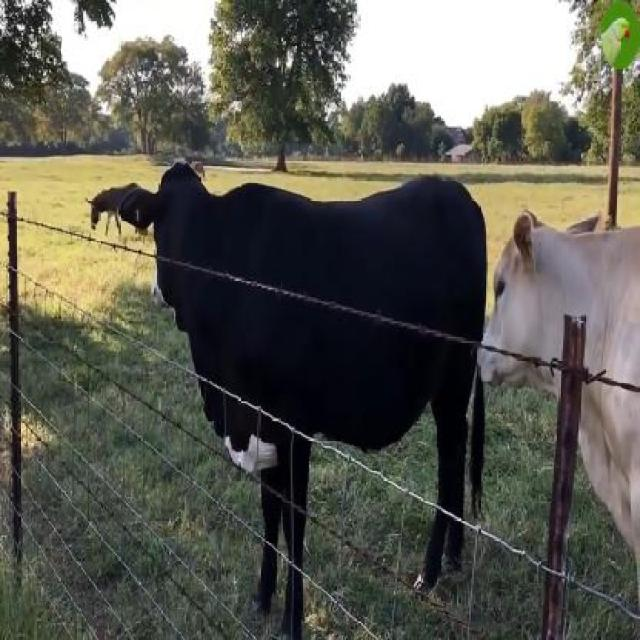Cow: (152, 162, 488, 602)
